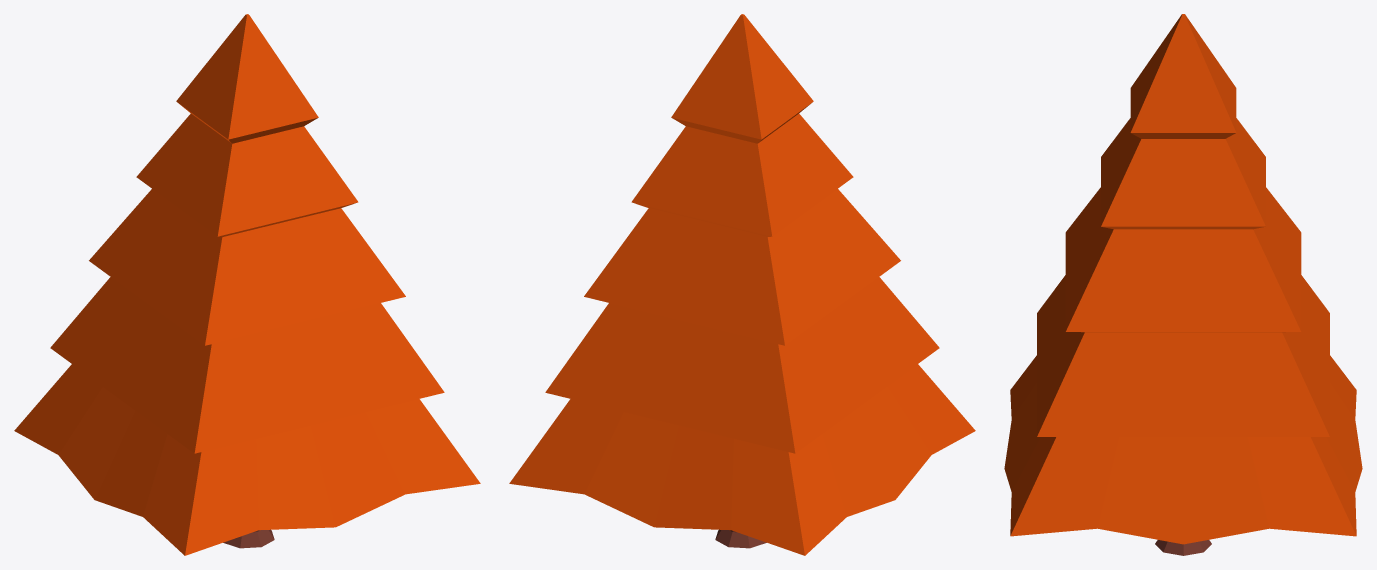
Rendered from Tree4.fbx.
3 renders of one model, left to right at view 1: azimuth 30°, elevation 25°; view 2: azimuth 150°, elevation 25°; view 3: azimuth 270°, elevation 25°, orthographic.
Visible parts, largest first — view 1: Cube.007, Circle.003; view 2: Cube.007, Circle.003; view 3: Cube.007, Circle.003.
Boxes of the visible parts, x1=… form: Cube.007: x1=14, y1=14, x2=480, y2=555; Circle.003: x1=223, y1=529, x2=274, y2=548; Cube.007: x1=509, y1=14, x2=975, y2=555; Circle.003: x1=715, y1=529, x2=766, y2=548; Cube.007: x1=1004, y1=14, x2=1362, y2=544; Circle.003: x1=1155, y1=540, x2=1211, y2=555.
Bounding box in the file's own units: 235 × 383 × 235.
